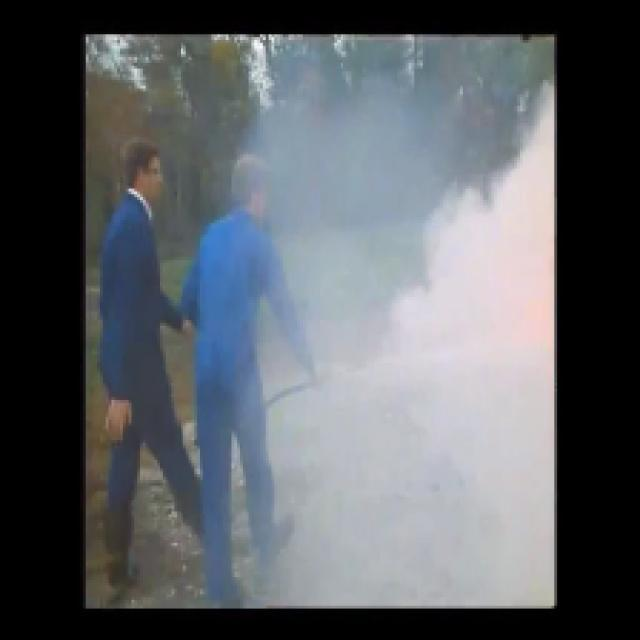Smoke: (314, 250, 556, 610)
